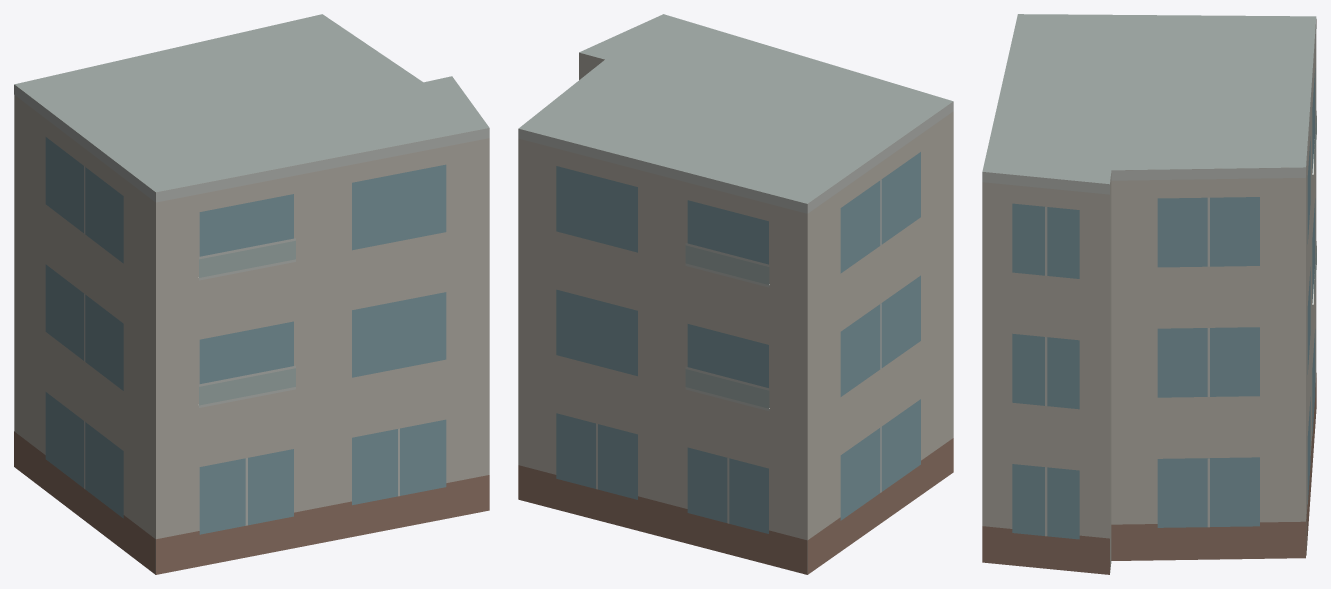
The model's file is survey-upis-33043322.glb.
The picture shows the model from 3 angles, left to right: view 1: azimuth 30°, elevation 25°; view 2: azimuth 150°, elevation 25°; view 3: azimuth 270°, elevation 25°; orthographic projection. The views are drawn at different scales.
Visible parts, largest first — view 1: survey-upis-33043322.tmp; view 2: survey-upis-33043322.tmp; view 3: survey-upis-33043322.tmp.
Part boxes in pixels (x1,y1,x2,y2): survey-upis-33043322.tmp: [14, 14, 489, 574]; survey-upis-33043322.tmp: [518, 14, 953, 574]; survey-upis-33043322.tmp: [982, 14, 1316, 574].
Size of the model in its own units: 8.56 by 9.15 by 7.11.
